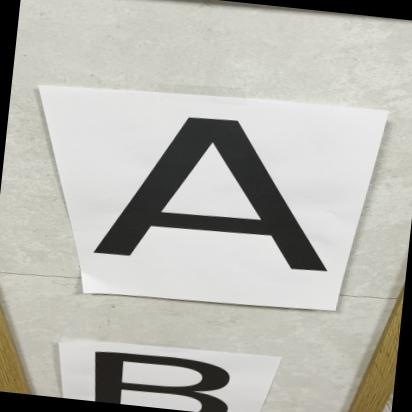seat: (62, 91, 356, 291)
